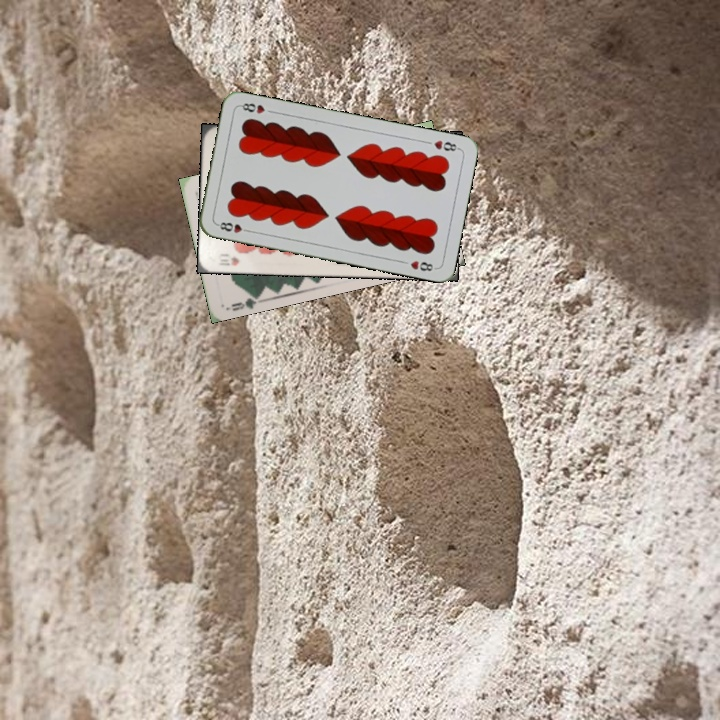G9: (227, 289, 262, 314)
H10: (214, 249, 242, 268)
H8: (213, 218, 254, 236), (430, 136, 462, 154)
